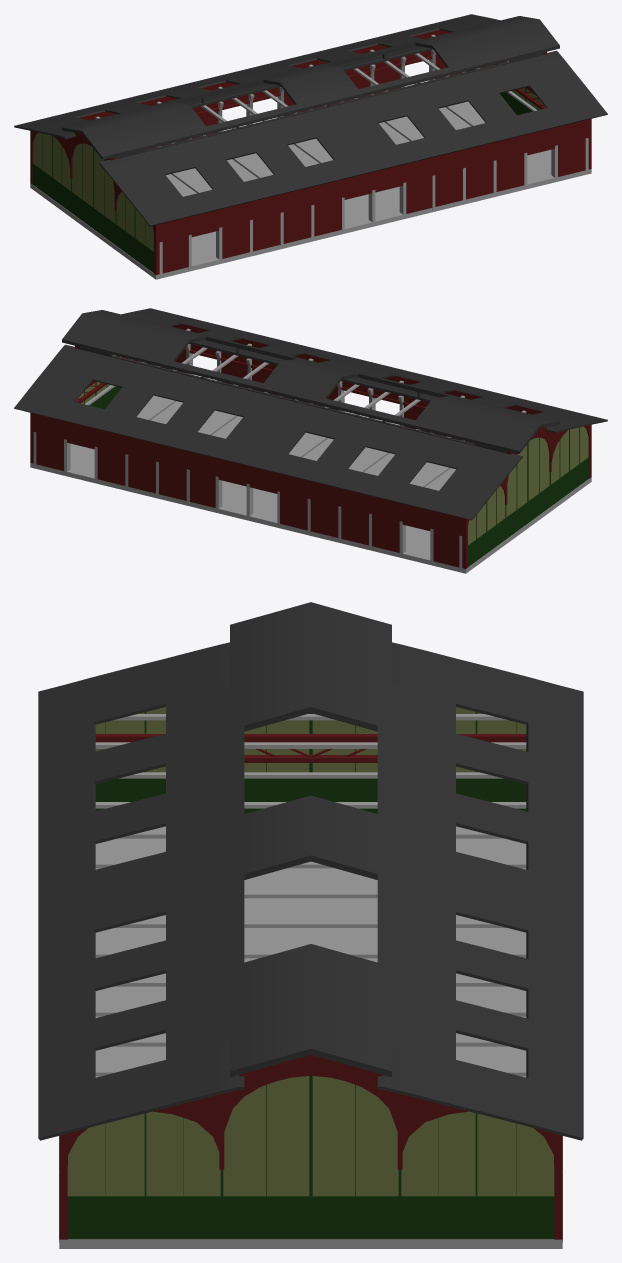
File: usine_2.fbx
3 views of the same model, one above another, from view 1: azimuth 30°, elevation 25°; view 2: azimuth 150°, elevation 25°; view 3: azimuth 270°, elevation 25° (orthographic). The views are drawn at different scales.
Visible parts, largest first — view 1: mur usine005; view 2: mur usine005; view 3: mur usine005.
Part boxes in pixels (<box>): mur usine005: <box>14,14,607,279</box>; mur usine005: <box>14,308,607,573</box>; mur usine005: <box>38,602,583,1248</box>.
Size of the model in its own units: 315 by 69.33 by 163.
